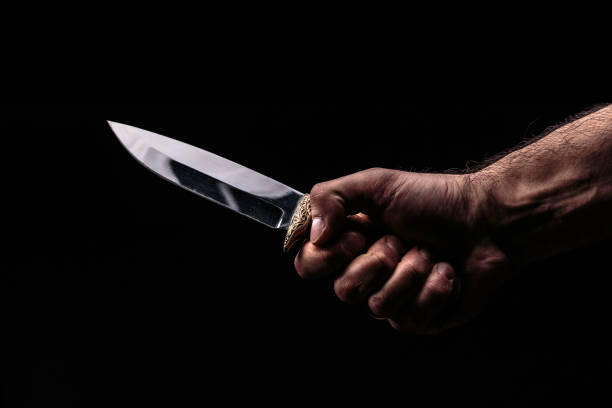knife: (102, 115, 384, 259)
